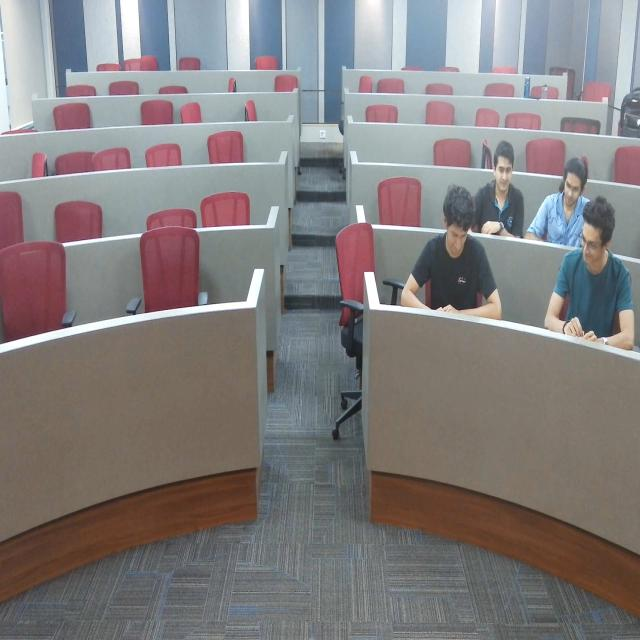non-cheating: (408, 178, 511, 334), (552, 202, 634, 354)
